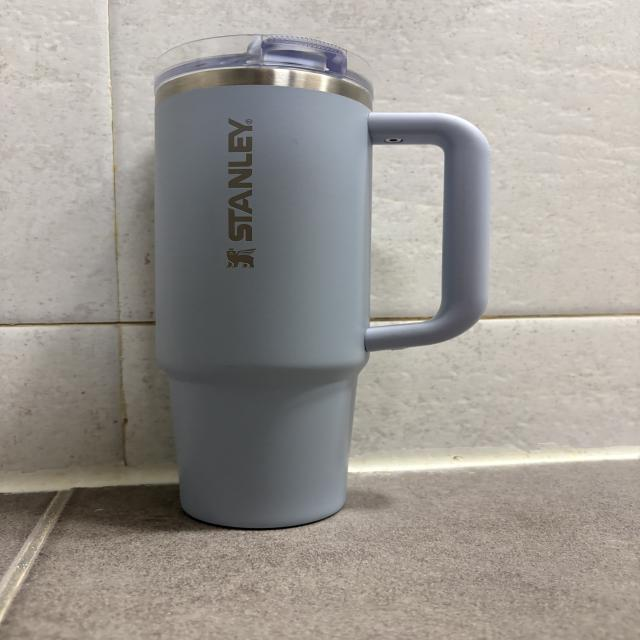waterbottle: (151, 32, 488, 530)
